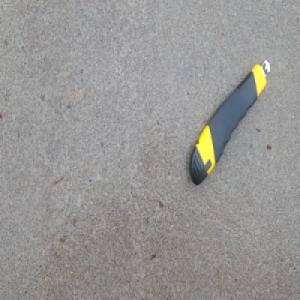Cutter: (188, 60, 271, 189)
